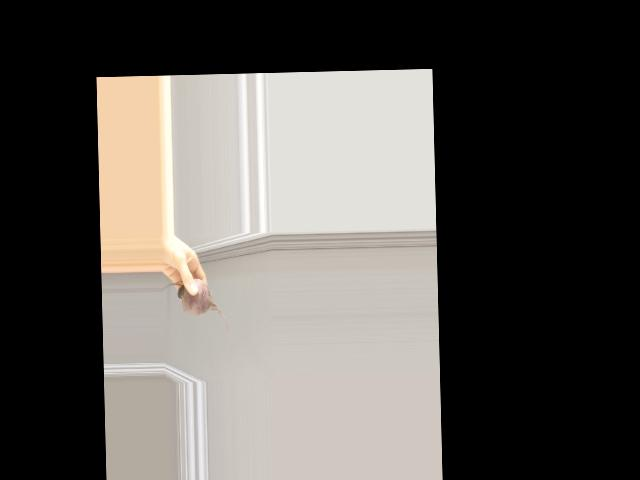beet: (161, 278, 228, 335)
